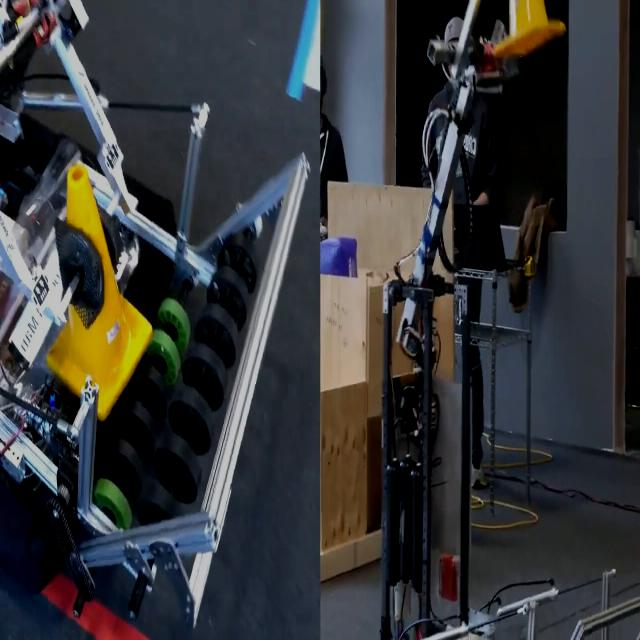frc_cone: (43, 150, 147, 419), (491, 0, 569, 80)
frc_cube: (311, 228, 357, 300)
